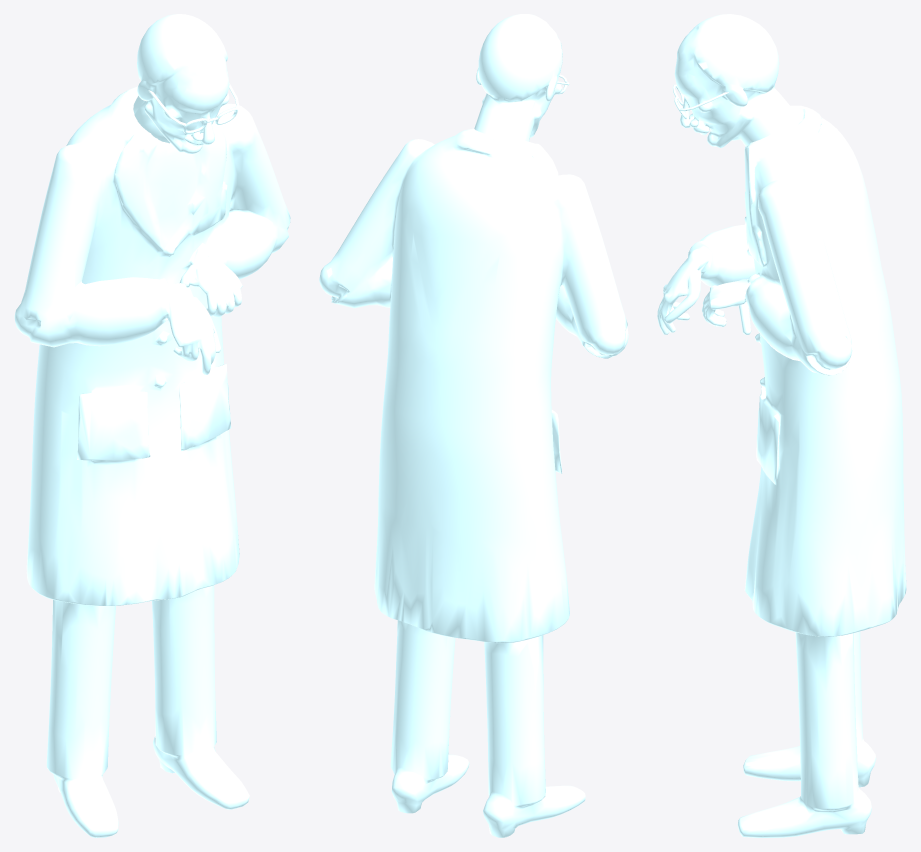
Rendered from echo_archivist.glb.
The picture shows the model from 3 angles, left to right: view 1: azimuth 30°, elevation 25°; view 2: azimuth 150°, elevation 25°; view 3: azimuth 270°, elevation 25°; orthographic projection. The views are drawn at different scales.
Parts seen in each view (by area): view 1: echo_body, echo_head; view 2: echo_body, echo_head; view 3: echo_body, echo_head.
Part boxes in pixels (x1,y1,x2,y2): echo_body: (14,86,290,837); echo_head: (133,14,239,153); echo_body: (319,128,628,837); echo_head: (474,14,569,141); echo_body: (657,105,906,837); echo_head: (672,14,795,147).
Size of the model in its own units: 0.6534 by 1.71 by 0.4906.
